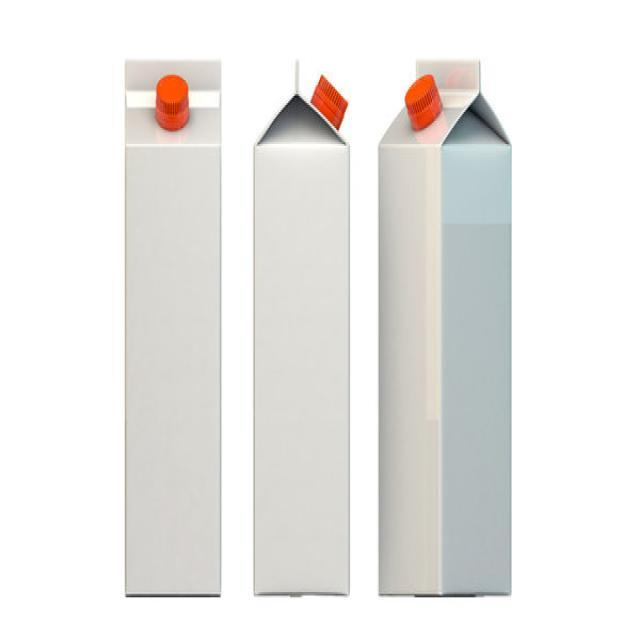Carton: (370, 51, 518, 610), (114, 38, 232, 604), (253, 42, 355, 617)
